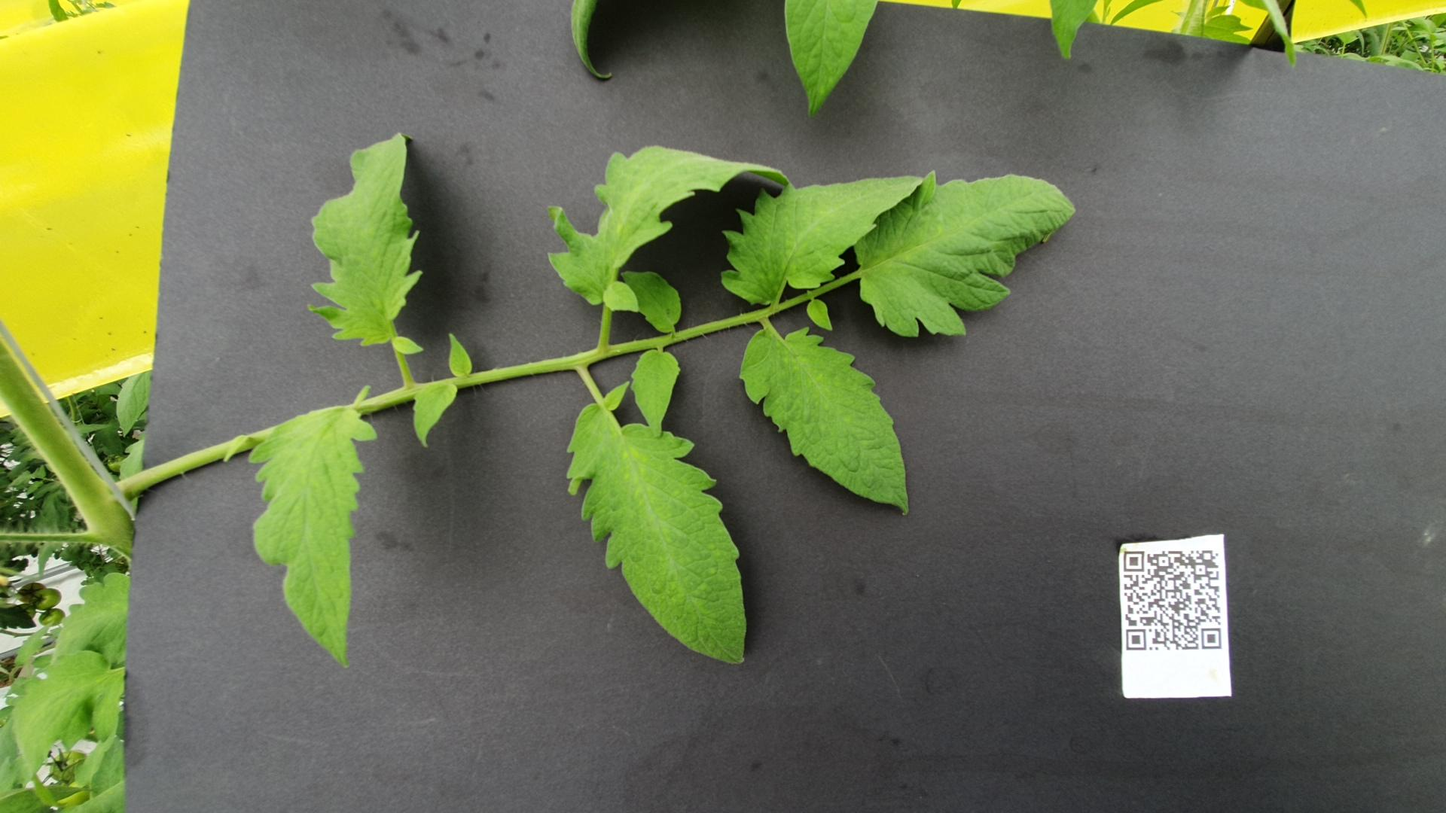Healthy: (258, 318, 766, 421), (892, 308, 1186, 443), (849, 481, 1142, 604), (258, 138, 727, 211), (533, 412, 860, 512), (816, 170, 1212, 243), (898, 404, 1133, 521), (64, 6, 289, 71), (1228, 441, 1446, 496), (665, 355, 825, 383), (855, 348, 965, 383), (649, 232, 768, 257), (669, 64, 788, 86)
